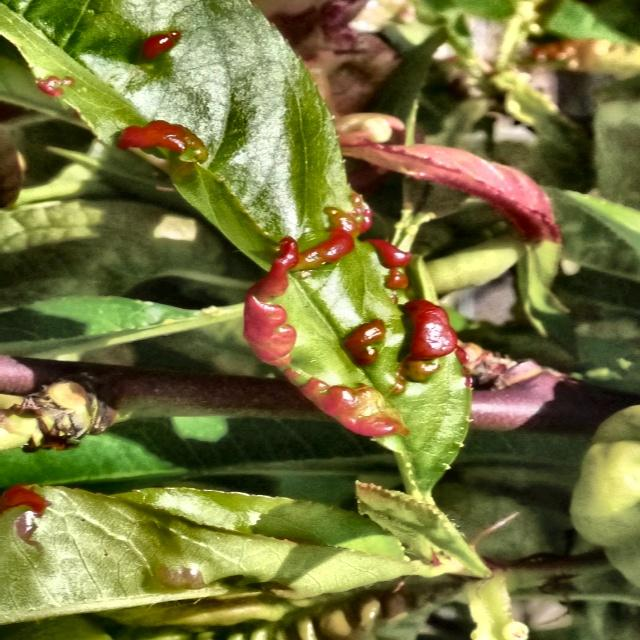leaf_curl: (234, 204, 485, 488), (29, 0, 241, 228)
